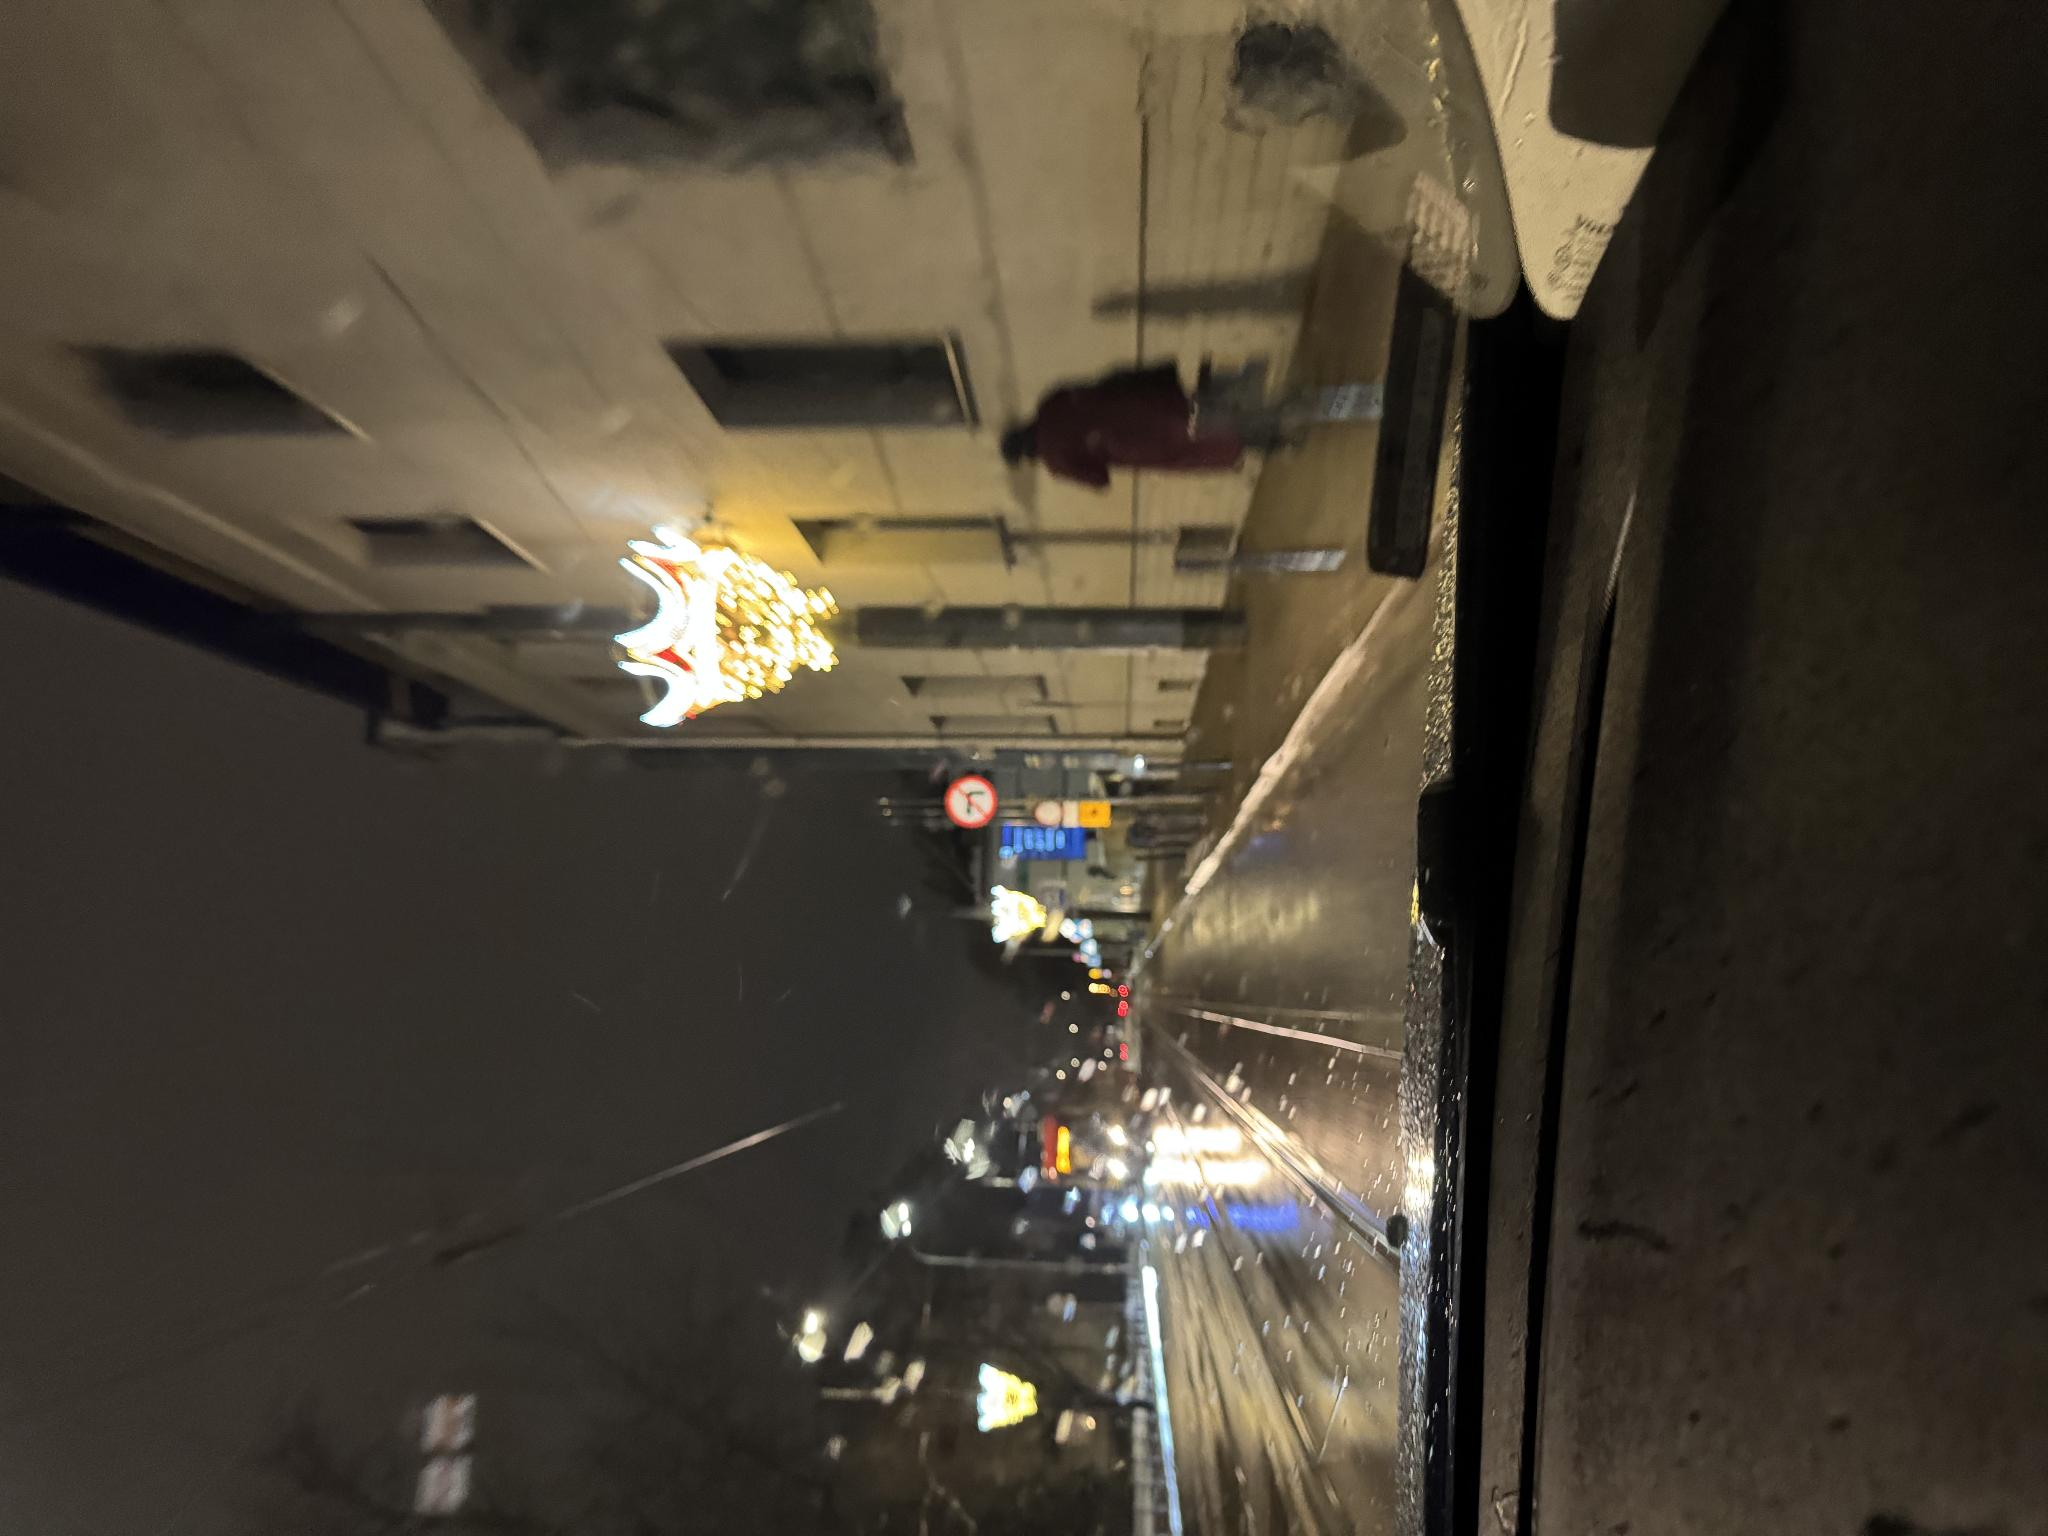prohibitory: (708, 945, 763, 997), (708, 1033, 737, 1062)
